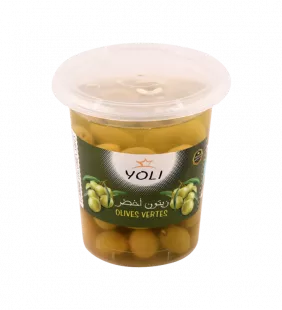YOLI: (44, 35, 237, 276)
